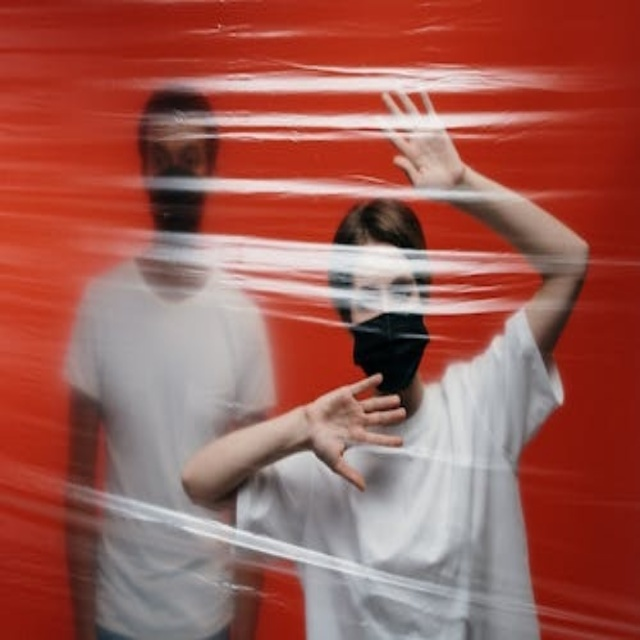Mascara: (348, 309, 429, 390), (147, 165, 204, 238)
Sin_guantes: (300, 372, 409, 493), (379, 86, 466, 193)
